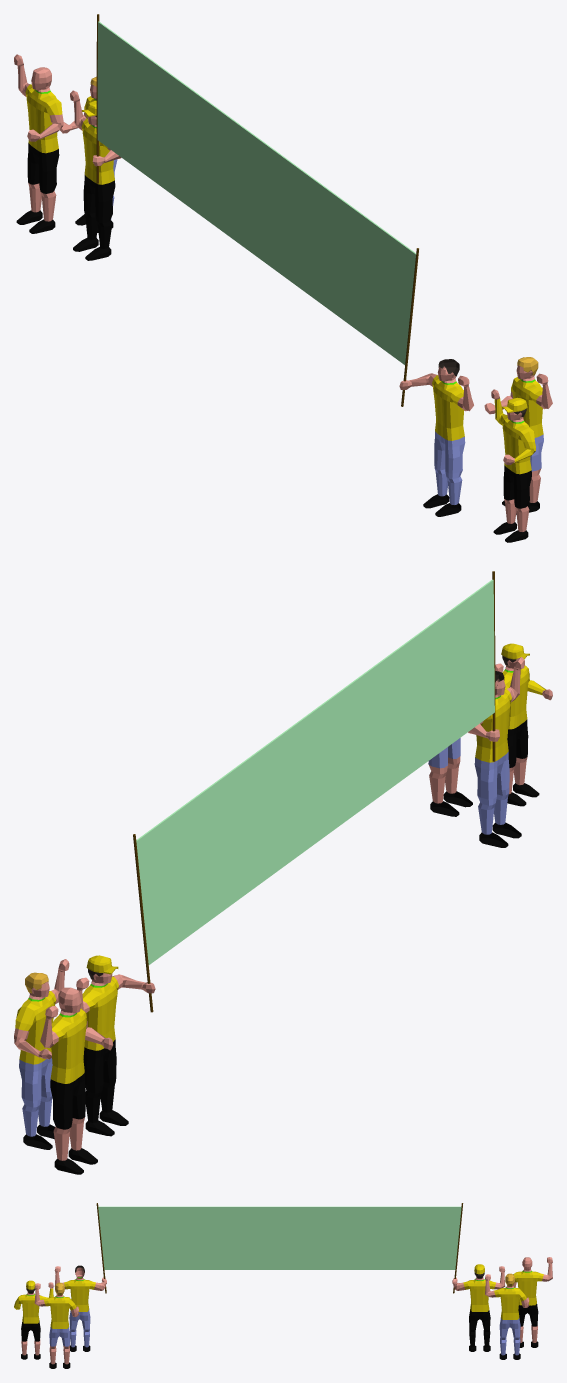
Rendered from faixa.fbx.
3 renders of one model, top to bottom at view 1: azimuth 30°, elevation 25°; view 2: azimuth 150°, elevation 25°; view 3: azimuth 270°, elevation 25°, orthographic. The views are drawn at different scales.
Parts seen in each view (by area): view 1: faixa_banner, patriot.006, patriot.002, patriot, patriot.005, patriot.004; view 2: faixa_banner, patriot.006, patriot.003, patriot, patriot.002, patriot.005, patriot.004; view 3: faixa_banner, patriot.003, patriot.004, patriot, patriot.002, patriot.006, patriot.005.
Part boxes in pixels (x1,y1,x2,y2): faixa_banner: (97,21,416,364); patriot.006: (14,54,63,233); patriot.002: (399,359,473,516); patriot: (70,90,121,260); patriot.005: (491,389,535,542); patriot.004: (484,357,552,514); faixa_banner: (136,579,494,965); patriot.006: (40,987,113,1174); patriot.003: (14,959,69,1149); patriot: (76,969,155,1136); patriot.002: (468,657,524,847); patriot.005: (495,655,552,806); patriot.004: (428,738,472,816); faixa_banner: (98,1206,461,1269); patriot.003: (485,1273,529,1359); patriot.004: (34,1282,78,1368); patriot: (452,1266,505,1351); patriot.002: (54,1265,106,1351); patriot.006: (513,1257,552,1347); patriot.005: (14,1282,53,1359).
Size of the model in its own units: 663 by 1421 by 4811.
